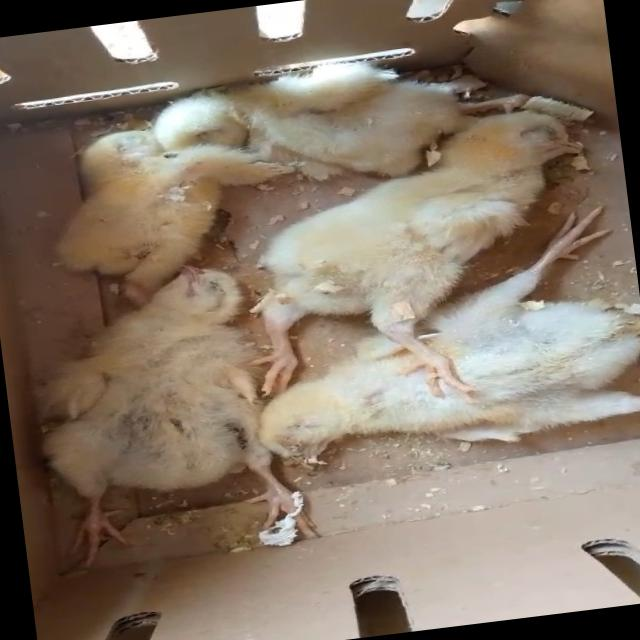dead: (160, 83, 596, 410), (189, 209, 640, 480), (0, 259, 277, 544), (20, 101, 211, 297)
